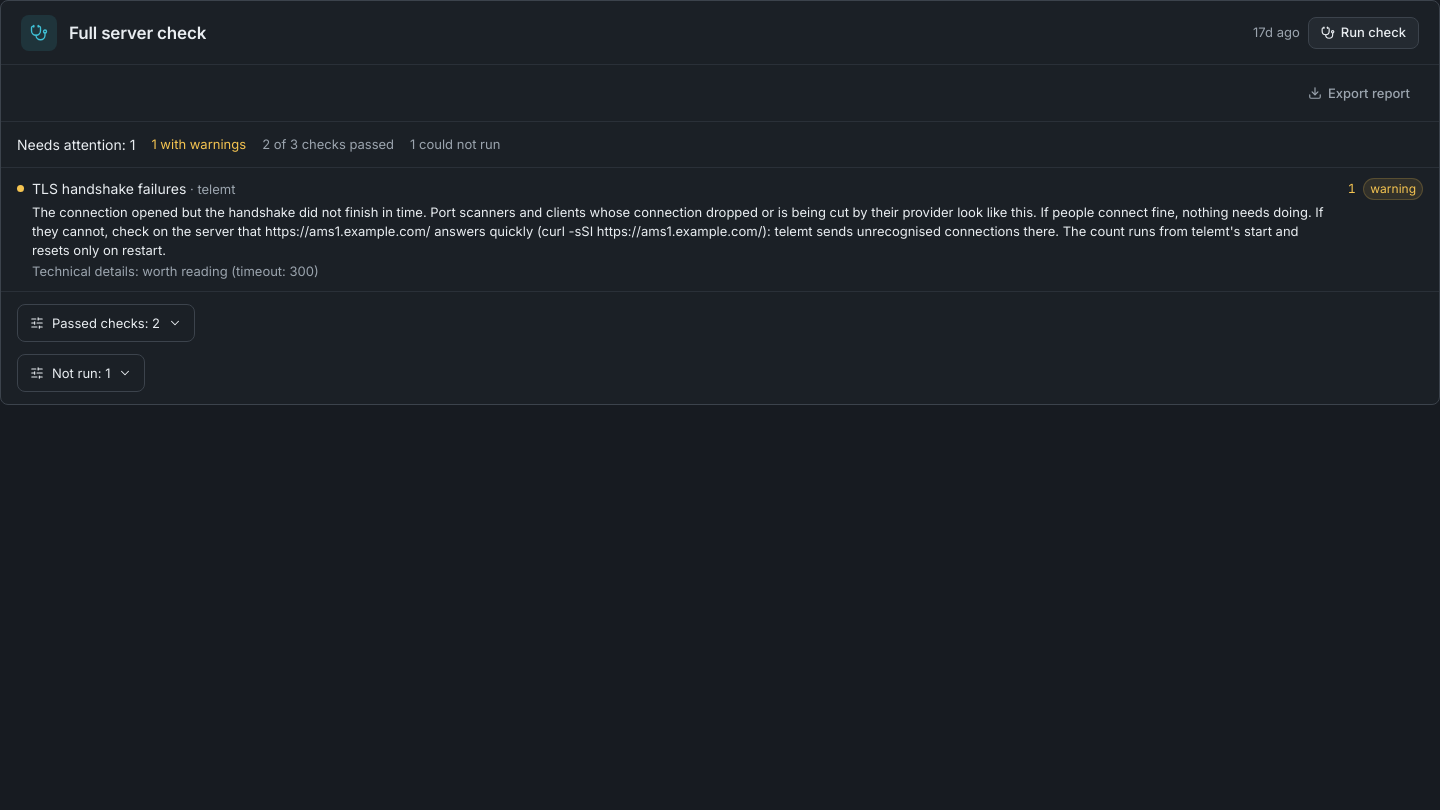
WebDiagnosticsCard › leads with what needs attention and keeps passing checks behind a toggle
Expected: the element with test id "diagnostics-summary" shows "Needs attention: 1", [17,136,135,153]
Expected: the number of list items is 1, [1,168,1439,291]
Click the button "Passed checks: 2": coordinates (106, 323) [17,304,195,342]
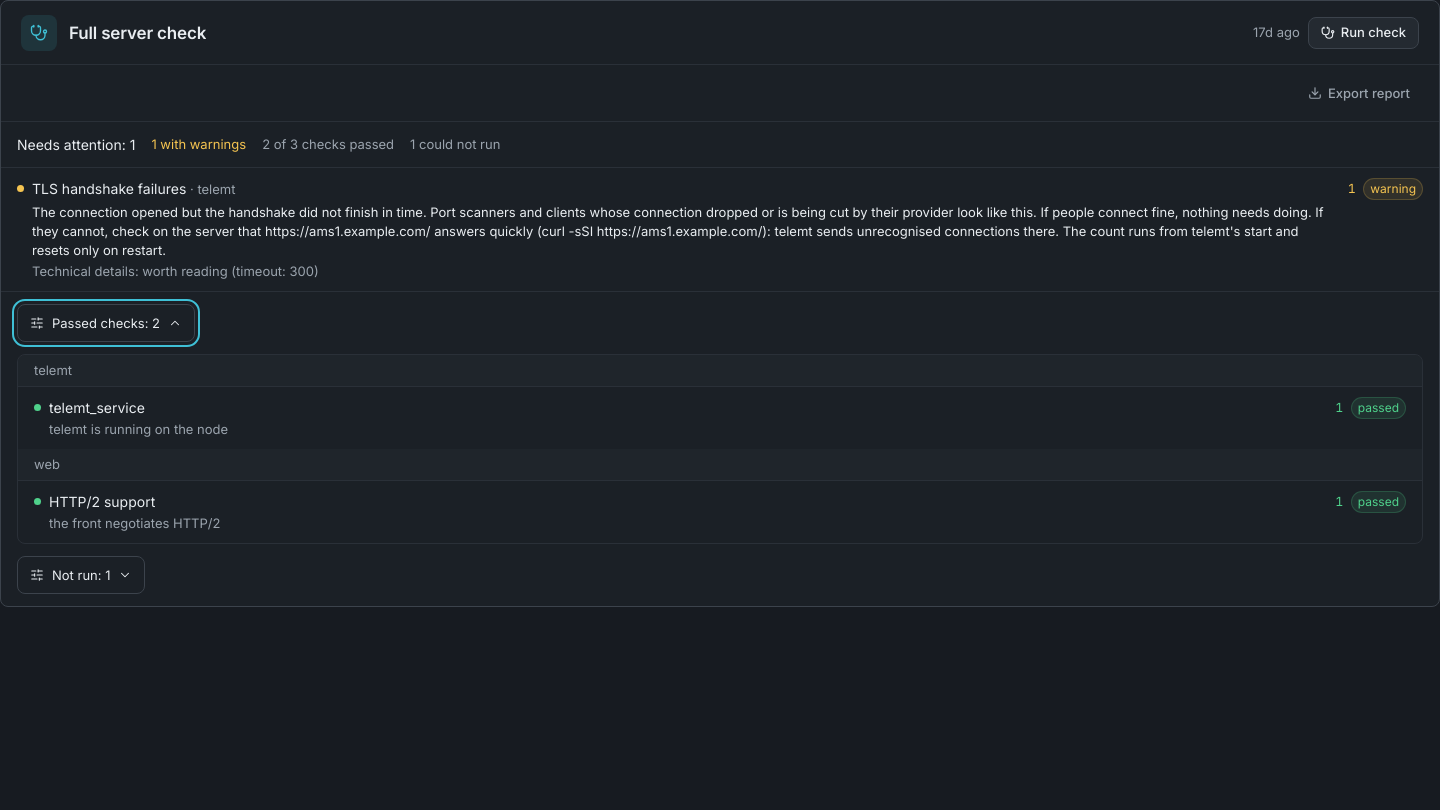
Expected: the button "Not run: 1" is shown, [17,556,146,594]
Now the list item "telemt_service telemt is running on the node 1 passed" is shown, box [18,387,1422,449]
Now the text "telemt is running on the node" is shown, box [49,420,228,439]
